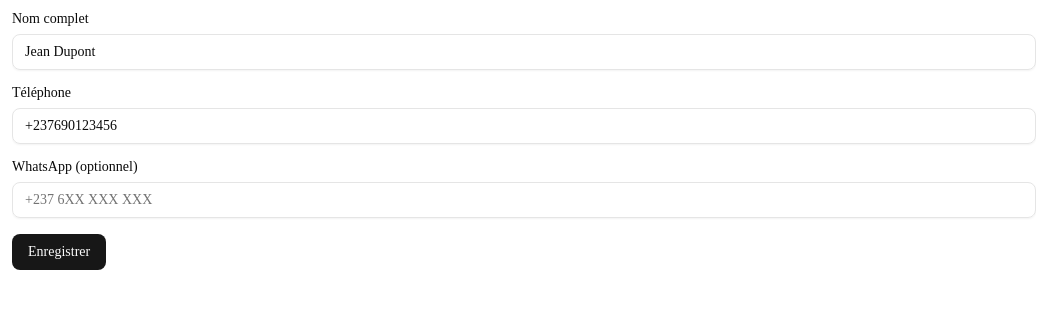
Test: PersonalInfoForm › shows a required field error when the full name is cleared
The image size is (1048, 315).
Clear the field labelled "Nom complet": (524, 52) [12,34,1036,70]
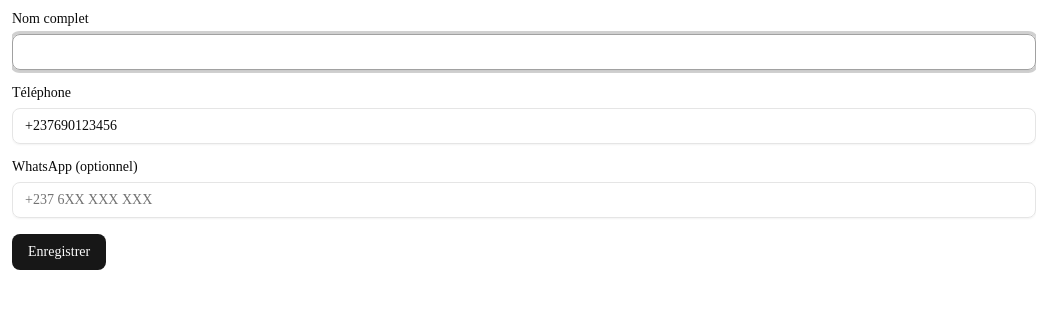
Click the button "Enregistrer": (59, 252) [12,234,106,270]
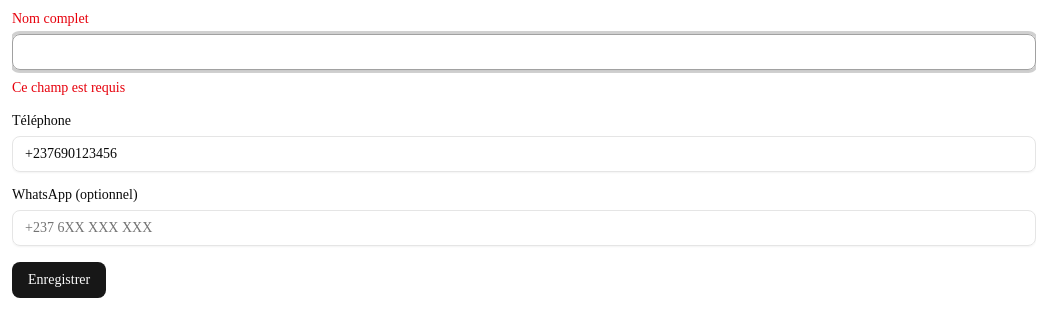
Expected: the text "Ce champ est requis" is shown, [12,80,125,95]
